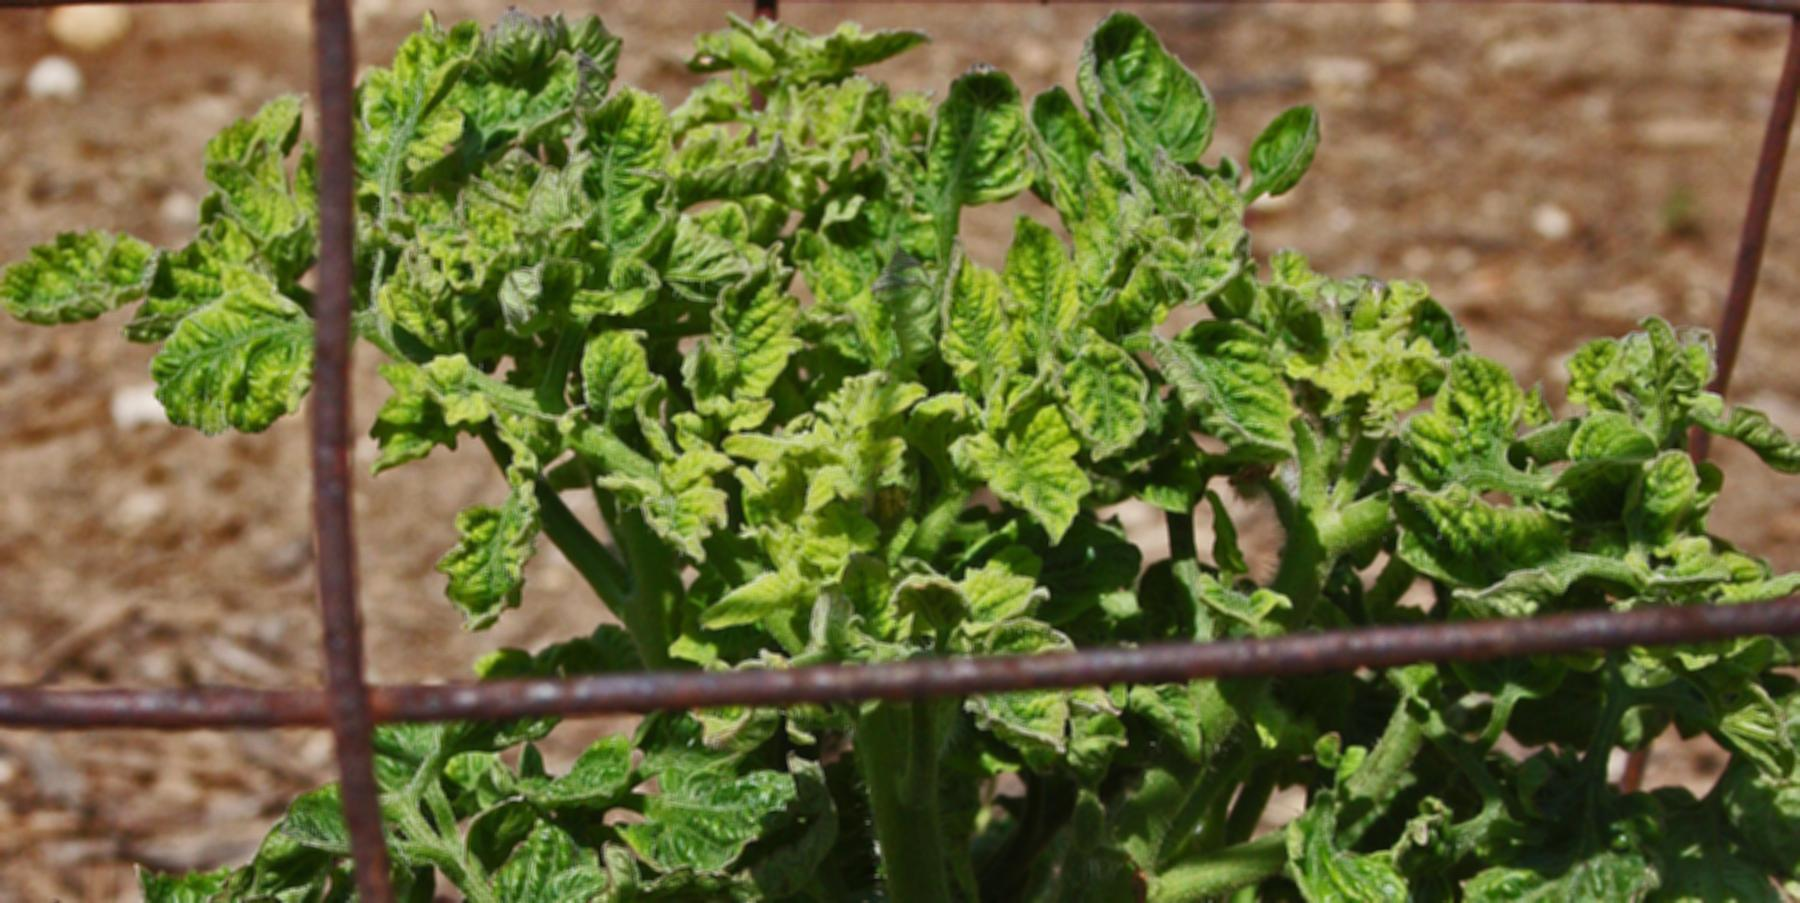Tomato leaf yellow virus: (586, 749, 808, 903), (142, 288, 327, 472), (1045, 9, 1238, 185), (1389, 479, 1621, 614), (889, 38, 1049, 223), (1142, 320, 1317, 475), (685, 243, 799, 463), (363, 23, 489, 204), (182, 116, 310, 288), (563, 86, 676, 276), (1031, 304, 1159, 470), (433, 475, 549, 638), (2, 217, 159, 337), (959, 416, 1094, 556), (802, 371, 921, 526), (453, 790, 612, 903), (369, 349, 506, 470), (928, 257, 1025, 424), (1002, 189, 1080, 395), (1289, 791, 1421, 903), (889, 552, 1041, 644), (1417, 337, 1537, 439), (553, 329, 655, 430), (683, 570, 813, 640), (1554, 405, 1668, 476)
